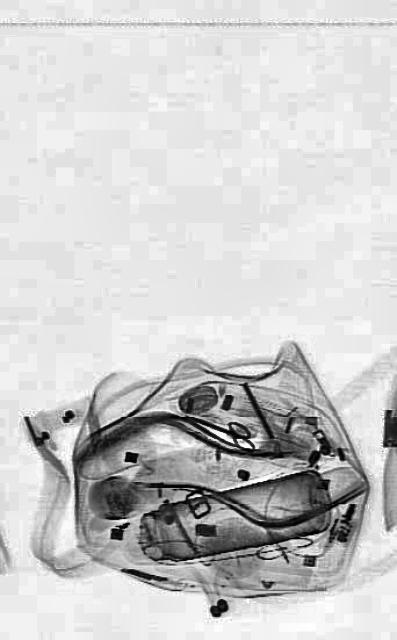Scissors: (178, 403, 256, 455)
